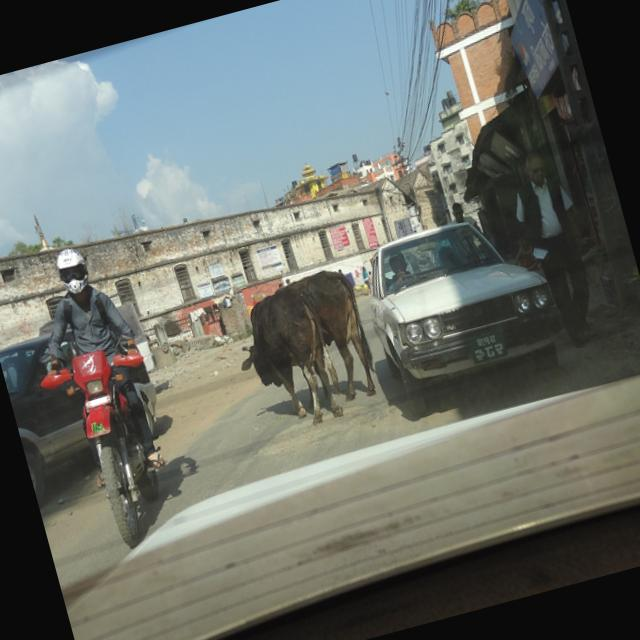Vehicle: (352, 198, 572, 406), (38, 340, 190, 558), (0, 327, 108, 504)
